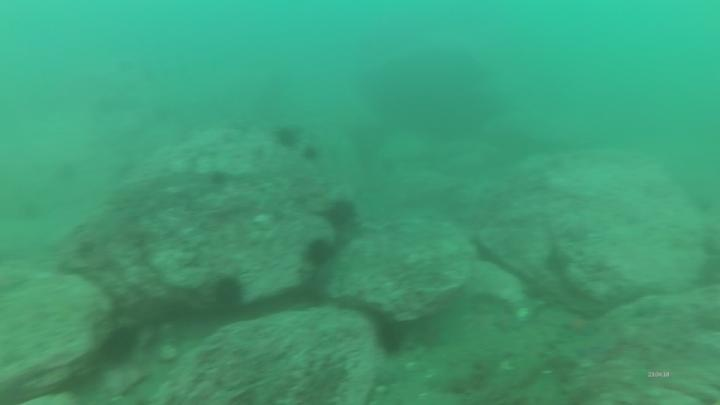echinus: (219, 277, 244, 312), (108, 332, 133, 365), (310, 240, 332, 263), (383, 326, 401, 350), (337, 202, 354, 226), (280, 128, 296, 149)
starfish: (565, 315, 593, 338), (638, 299, 665, 319)
